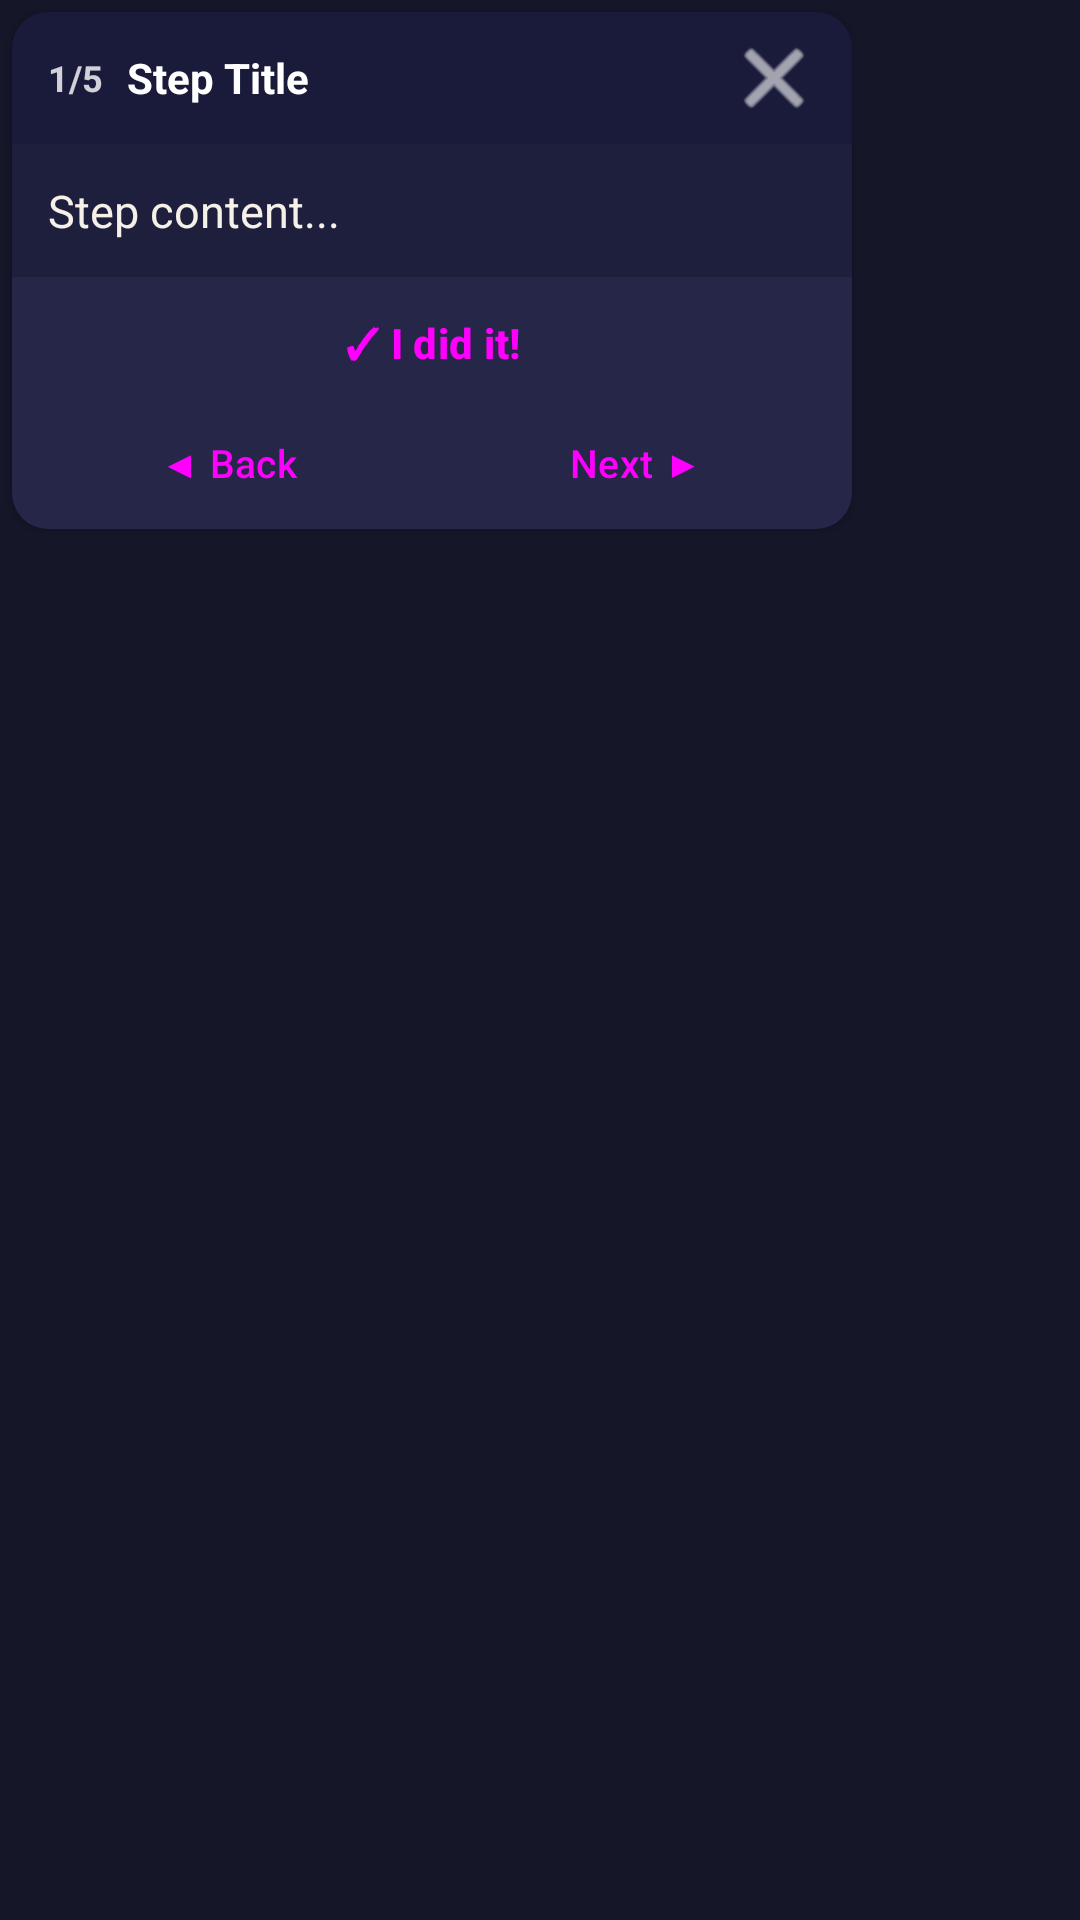

Named icons in this screenshot (1080*1920) and their bounding boxes, bbox=[x1, y1, x2, y2]:
Close: bbox=[744, 48, 804, 108]
